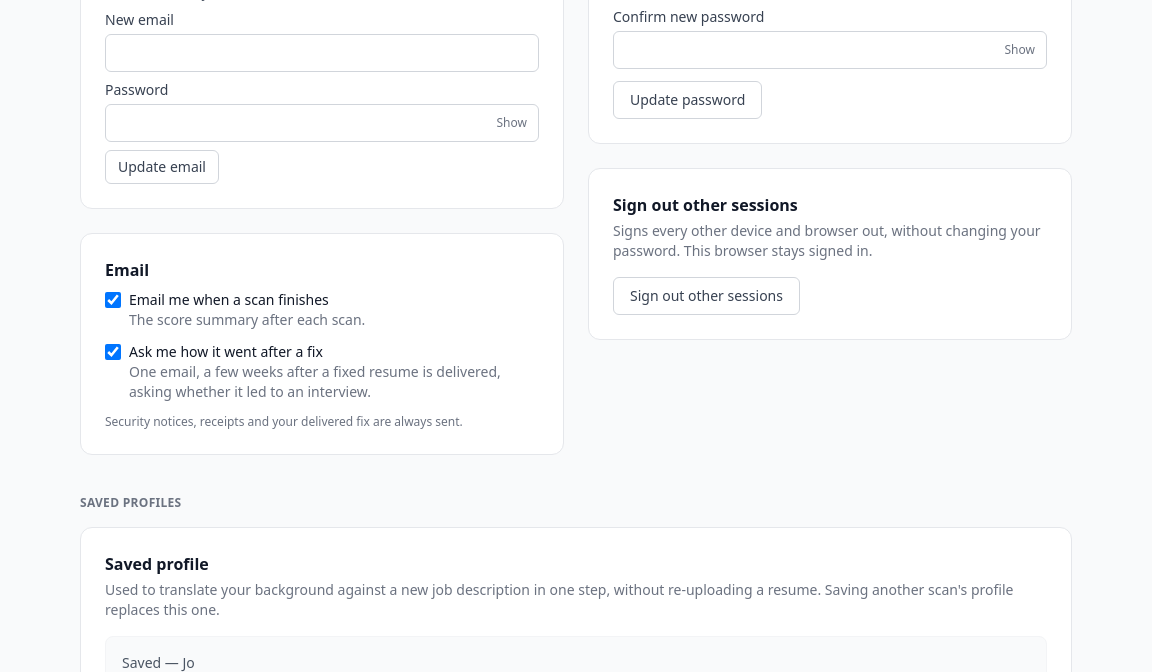
Test: Settings — the two email switches › a failed save puts the checkbox back
(page scrolled)
Click the checkbox labelled "Ask me how it went after a fix" at (113, 352), box [105,344,121,360]
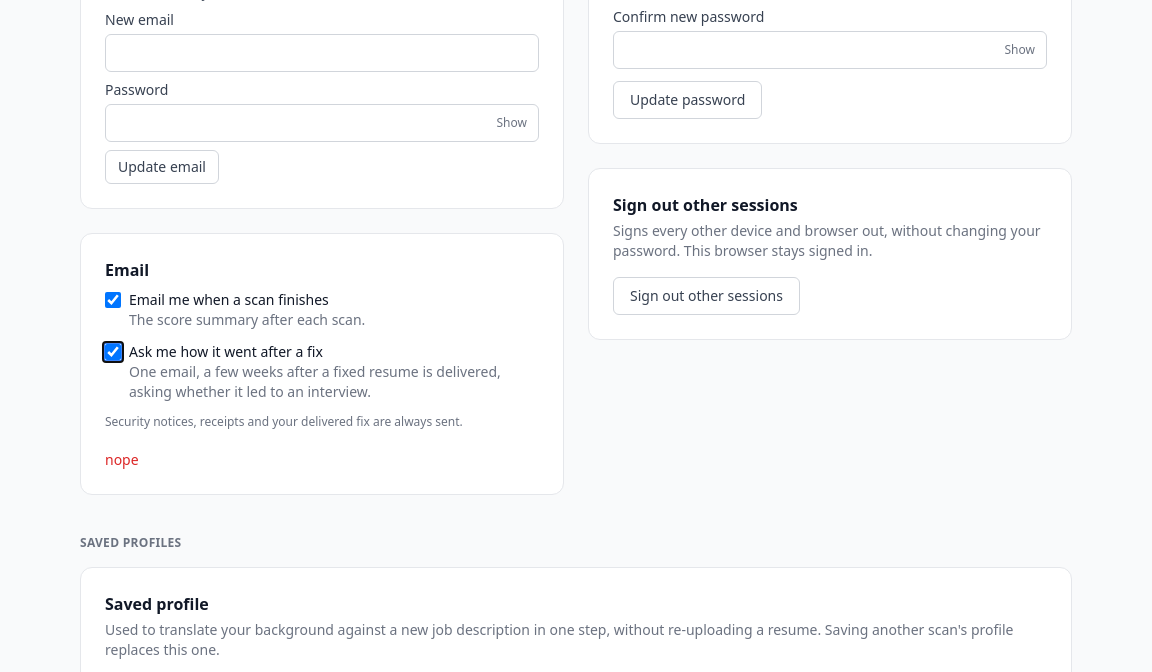
Result: the text "nope" is shown at [105,450,139,469]
